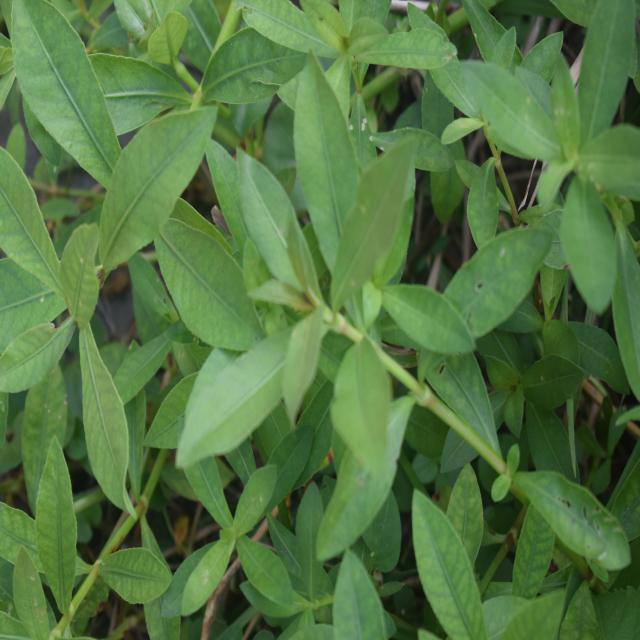Alligatorweed: (204, 76, 438, 489), (0, 35, 211, 476)
